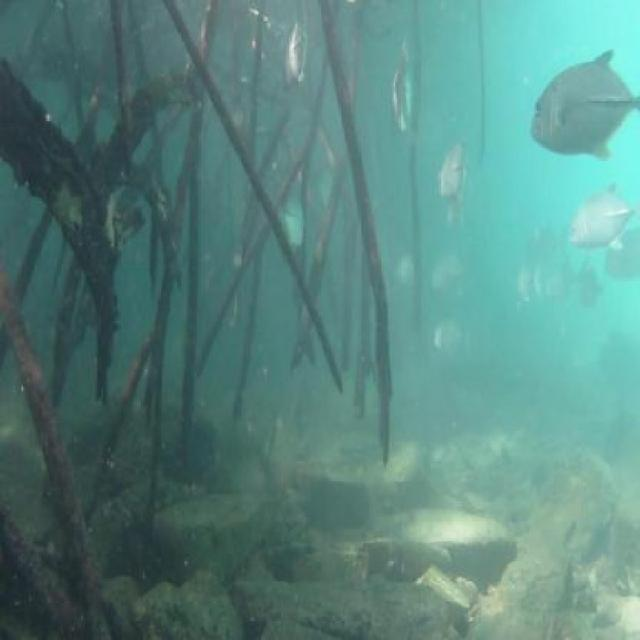Caranx_sexfasciatus_juvenile: (523, 39, 640, 163), (568, 176, 640, 264), (383, 37, 420, 152), (429, 127, 473, 222), (424, 229, 471, 311), (278, 10, 314, 102), (598, 224, 640, 298), (280, 165, 306, 262), (430, 313, 468, 376), (532, 244, 570, 302), (502, 248, 538, 308), (567, 258, 599, 322), (392, 235, 420, 299), (312, 152, 338, 216)
